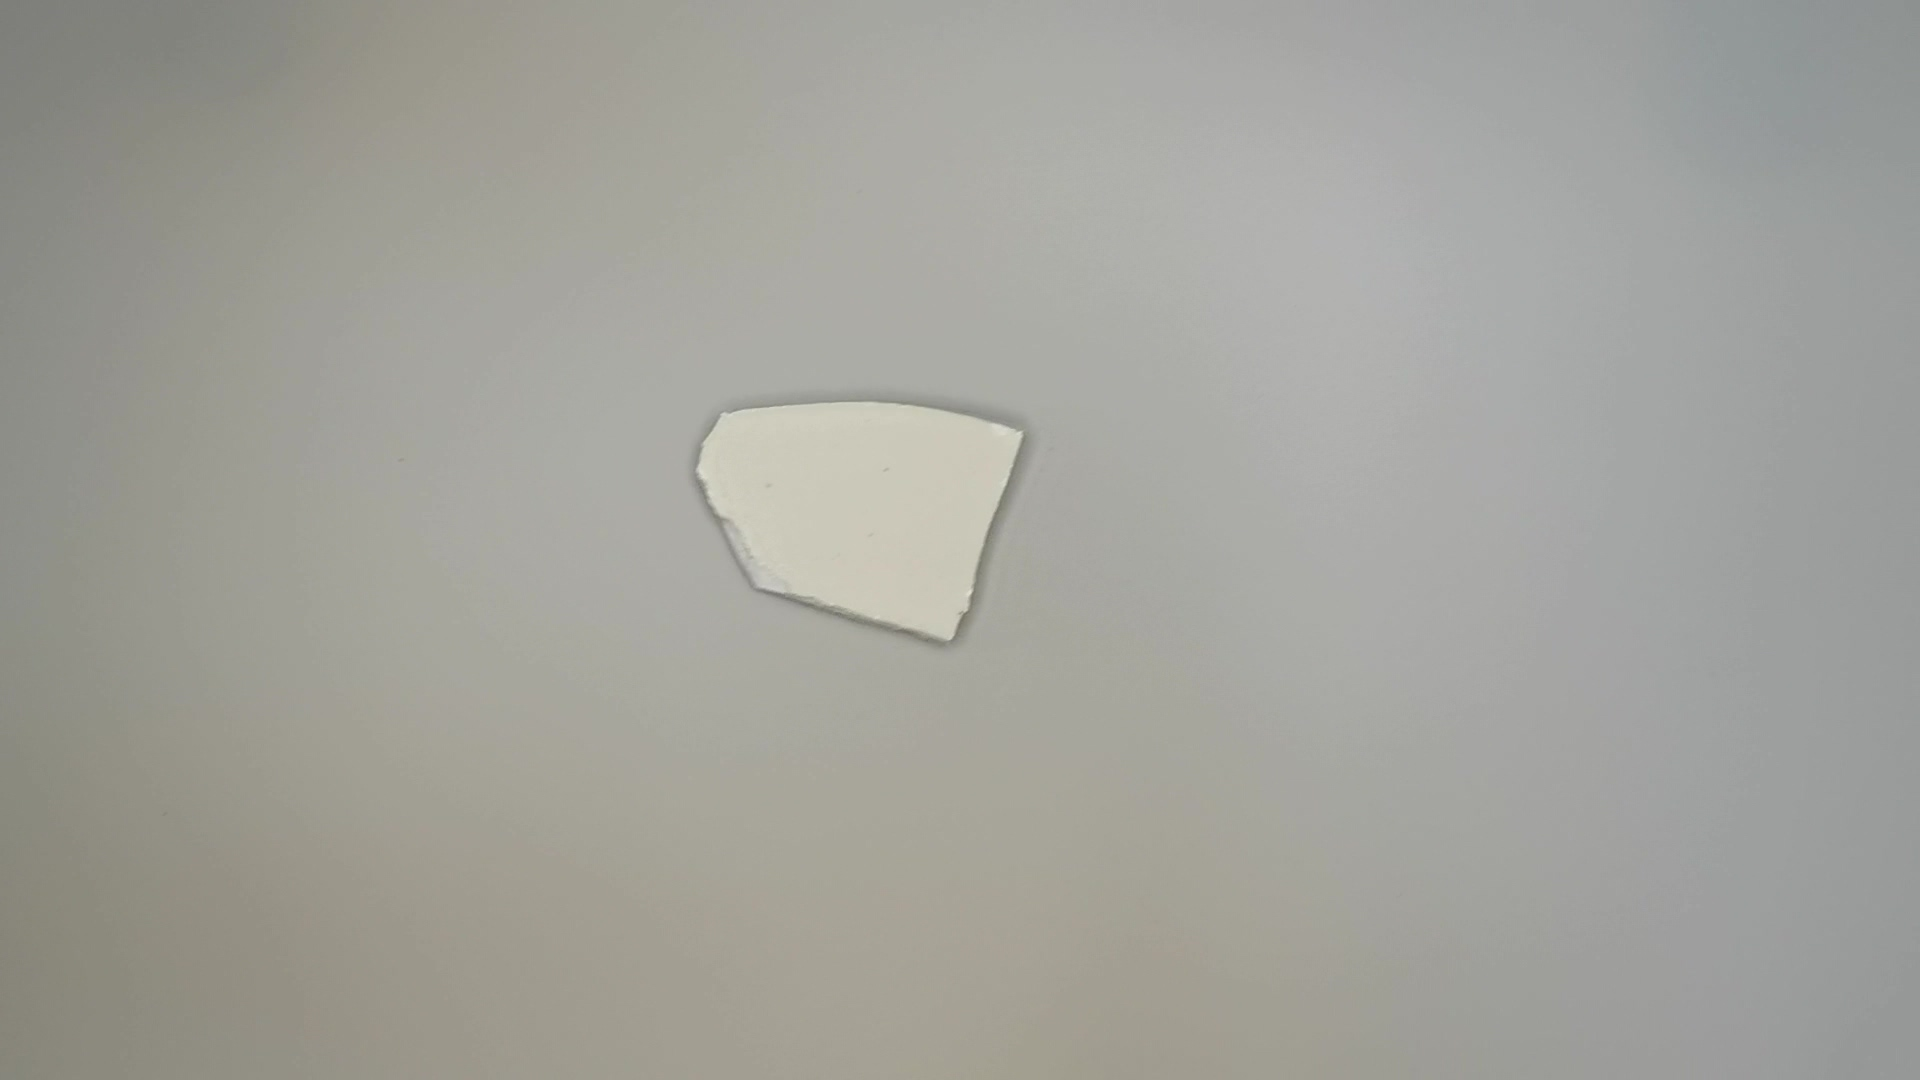ceramic: (688, 396, 1036, 651)
